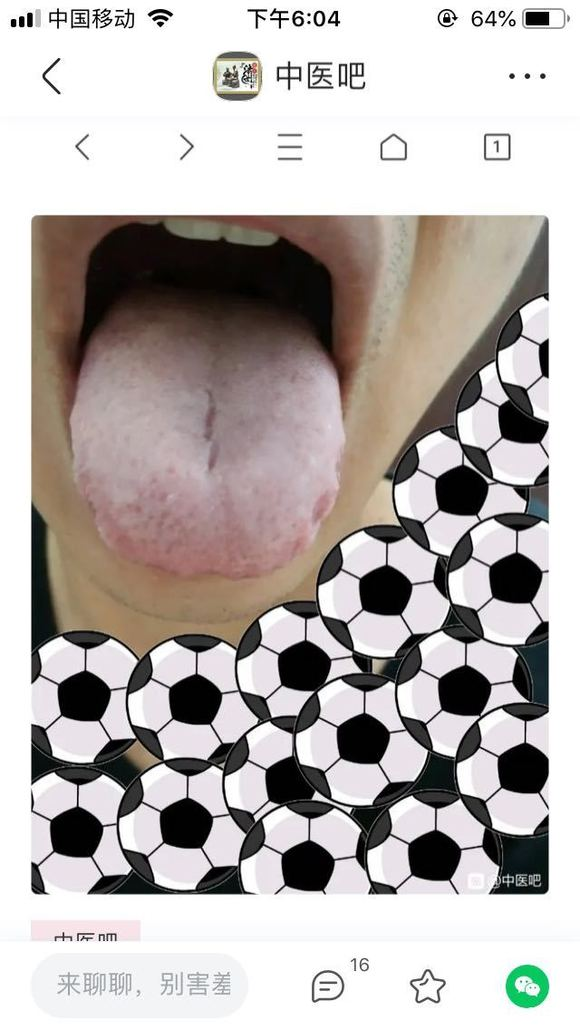baitaishe: (69, 284, 347, 580)
chihenshe: (292, 441, 347, 560), (75, 463, 136, 561)
liewenshe: (199, 387, 223, 474)
